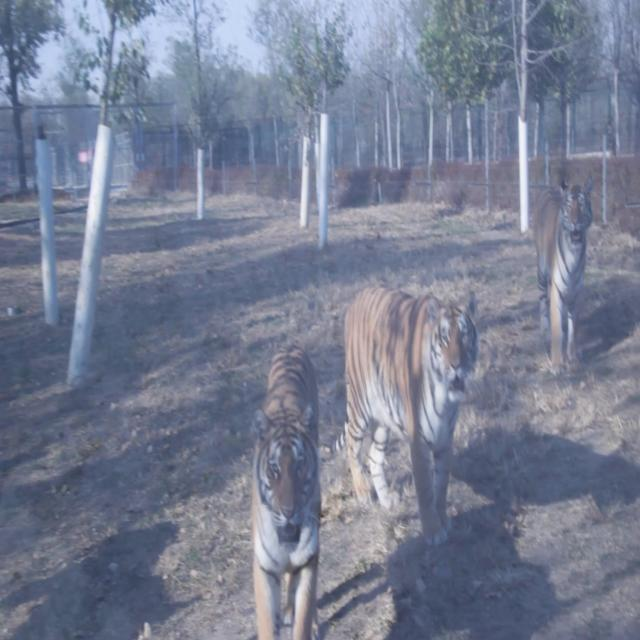Tiger: (335, 267, 485, 547), (230, 313, 327, 639), (526, 165, 614, 375)
